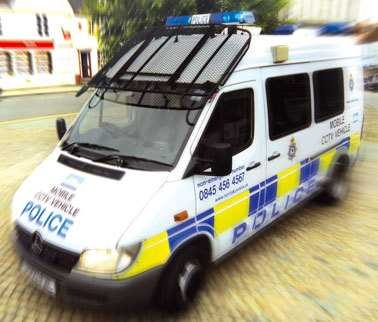Police Van: (10, 21, 369, 304)
